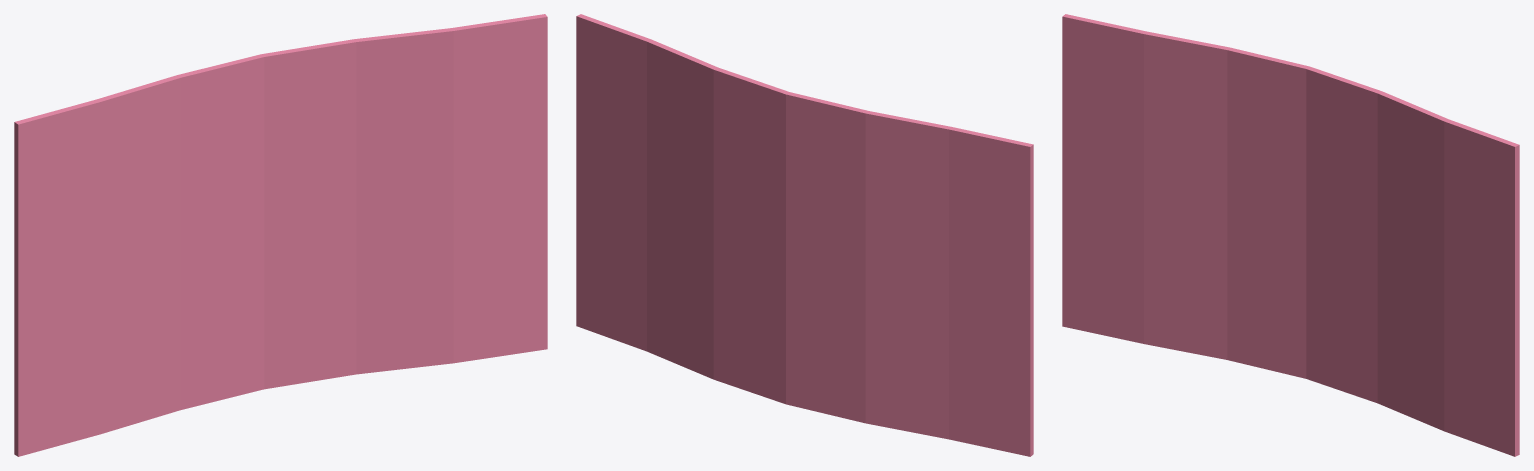
The model's file is FlagCoral.fbx.
3 views of the same model, side by side, from view 1: azimuth 30°, elevation 25°; view 2: azimuth 150°, elevation 25°; view 3: azimuth 330°, elevation 25° (orthographic). The views are drawn at different scales.
Parts seen in each view (by area): view 1: FlagCoral; view 2: FlagCoral; view 3: FlagCoral.
Part boxes in pixels (x1,y1,x2,y2): FlagCoral: (14, 14, 547, 456); FlagCoral: (576, 14, 1033, 456); FlagCoral: (1062, 14, 1519, 456).
Bounding box in the file's own units: 1.6 × 1 × 0.1822.
